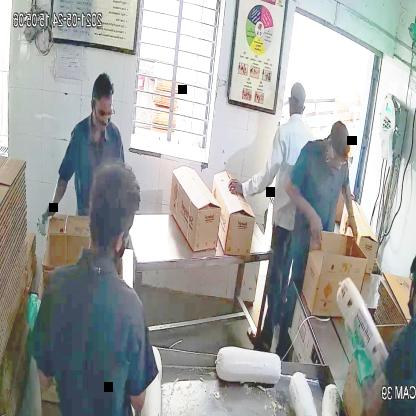goggles: (93, 102, 116, 124), (328, 151, 350, 171)
